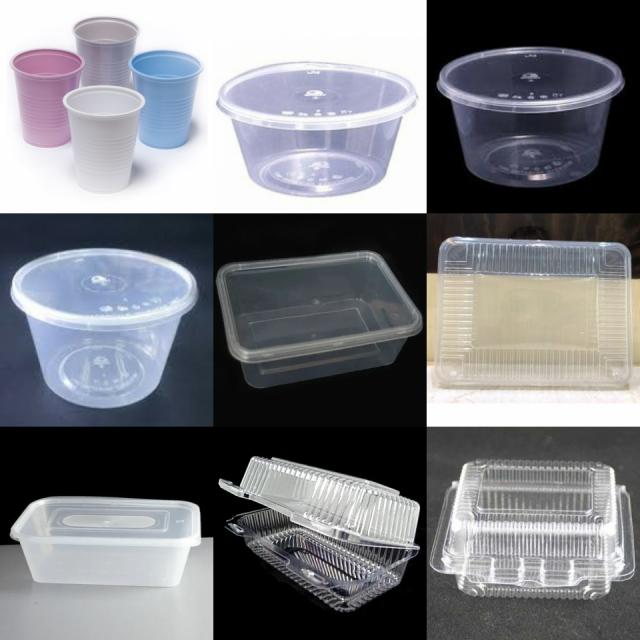Single-Use-Plastic: (219, 456, 420, 612), (11, 249, 198, 408), (435, 238, 632, 388), (430, 460, 635, 598), (216, 251, 422, 388), (218, 62, 418, 197), (438, 48, 624, 188), (11, 496, 201, 587), (62, 85, 145, 192), (10, 49, 85, 147), (129, 50, 202, 148), (72, 16, 140, 87)
